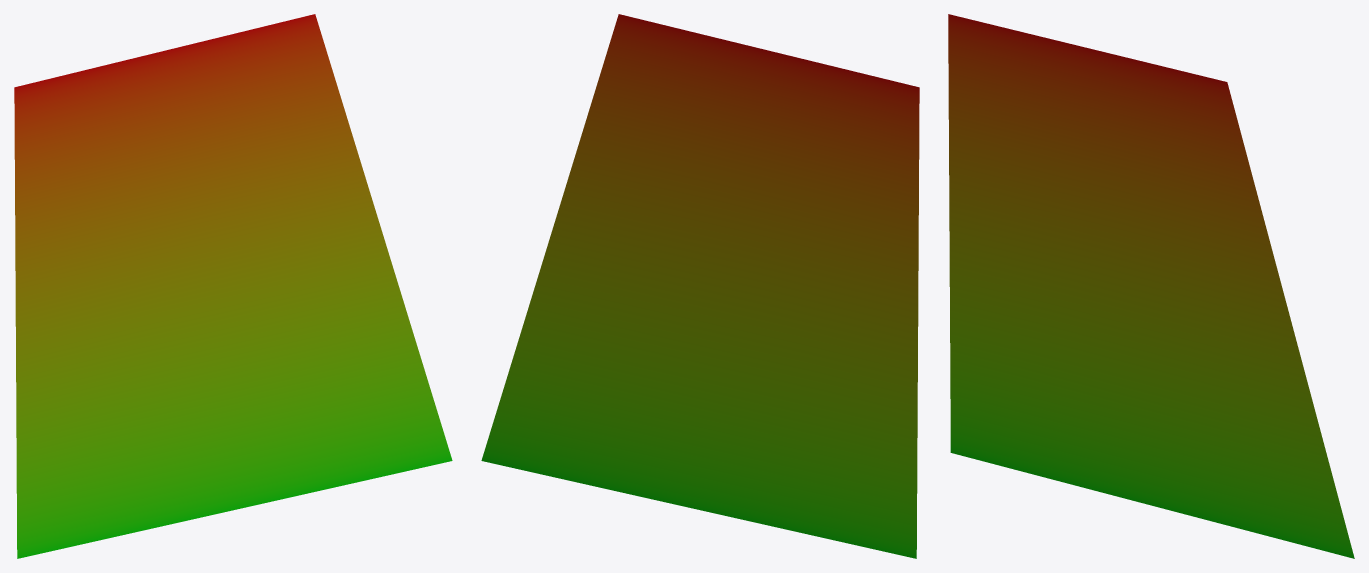
The model's file is Var4_LOD3.fbx.
3 renders of one model, left to right at view 1: azimuth 30°, elevation 25°; view 2: azimuth 150°, elevation 25°; view 3: azimuth 330°, elevation 25°, orthographic. The views are drawn at different scales.
Parts seen in each view (by area): view 1: _15c7_Var4_LOD3; view 2: _15c7_Var4_LOD3; view 3: _15c7_Var4_LOD3.
Boxes of the visible parts, x1,y1,x2,y2 form: _15c7_Var4_LOD3: [14, 14, 452, 558]; _15c7_Var4_LOD3: [481, 14, 919, 558]; _15c7_Var4_LOD3: [948, 14, 1354, 558].
Bounding box in the file's own units: 76.25 × 79.89 × 1.49e-06.
